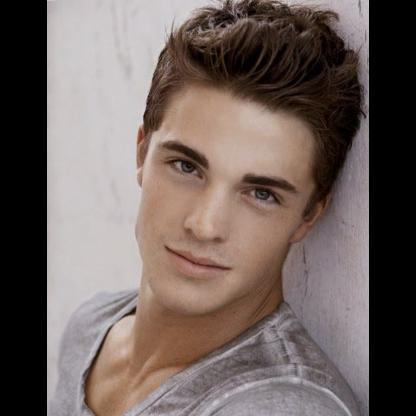Male: (132, 82, 332, 312)
